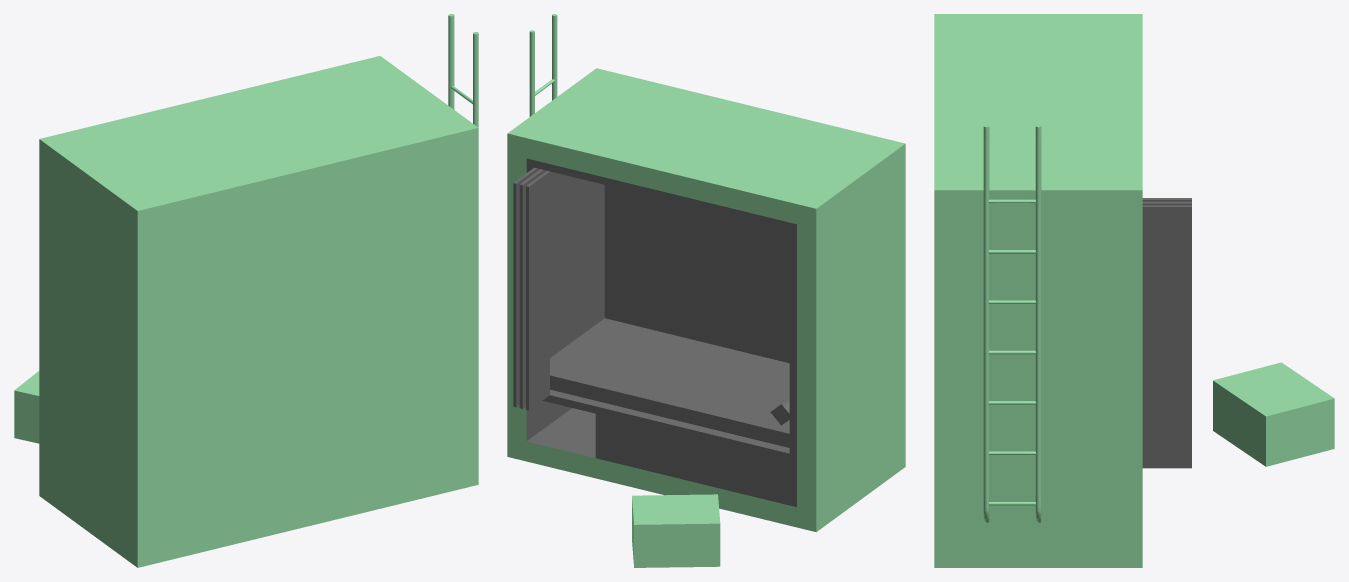
File: boxbed.glb
3 renders of one model, left to right at view 1: azimuth 30°, elevation 25°; view 2: azimuth 150°, elevation 25°; view 3: azimuth 270°, elevation 25°, orthographic. The views are drawn at different scales.
Parts seen in each view (by area): view 1: Boxbed.001; view 2: Boxbed.001; view 3: Boxbed.001.
Boxes of the visible parts, <box> form: Boxbed.001: <box>14,14,478,567</box>; Boxbed.001: <box>507,14,905,567</box>; Boxbed.001: <box>934,14,1334,567</box>.
Size of the model in its own units: 10.71 by 11.99 by 9.6.
